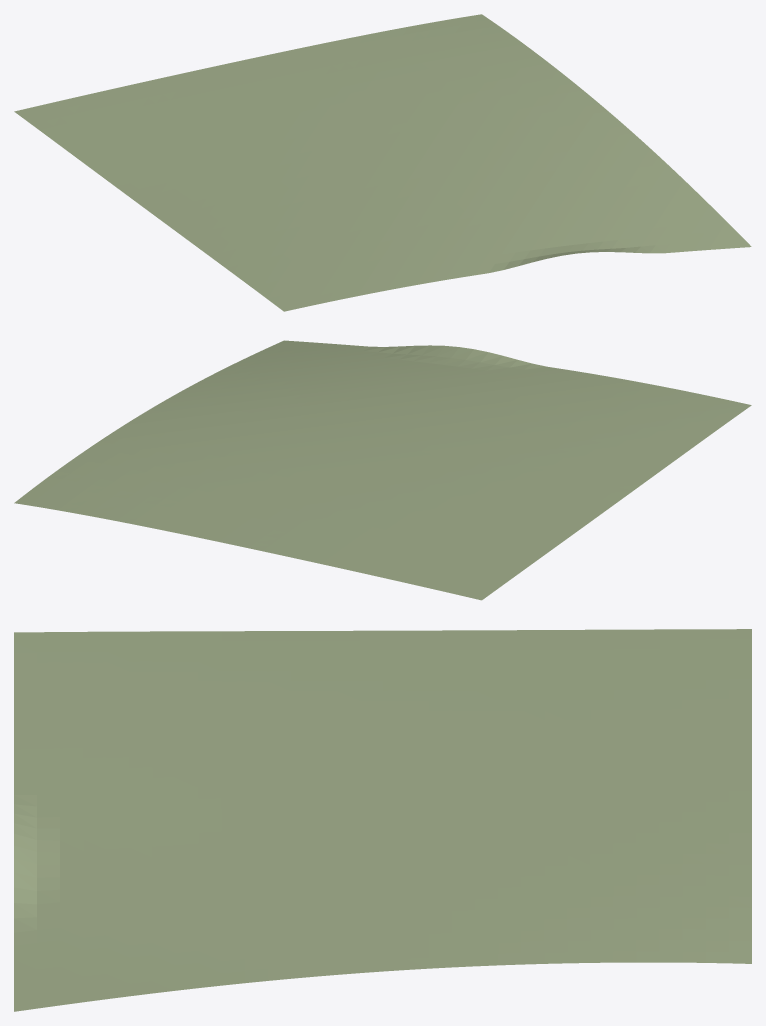
Rendered from expanse-13-17.glb.
3 views of the same model, one above another, from view 1: azimuth 30°, elevation 25°; view 2: azimuth 150°, elevation 25°; view 3: azimuth 270°, elevation 25° (orthographic). The views are drawn at different scales.
Parts seen in each view (by area): view 1: expanse-13-17; view 2: expanse-13-17; view 3: expanse-13-17.
Part boxes in pixels (x1,y1,x2,y2): expanse-13-17: [14, 14, 751, 311]; expanse-13-17: [14, 340, 751, 600]; expanse-13-17: [14, 629, 751, 1011].
Bounding box in the file's own units: 256 × 27.13 × 256.
